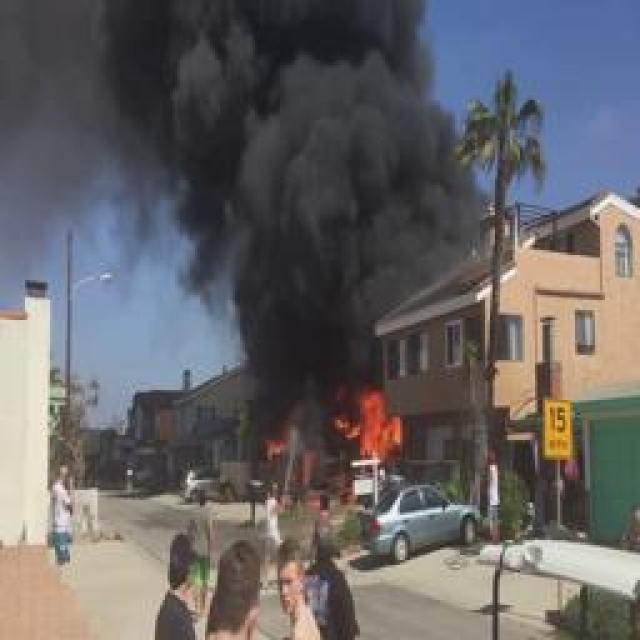Fire: (362, 391, 403, 460)
Smoke: (140, 5, 484, 321)
